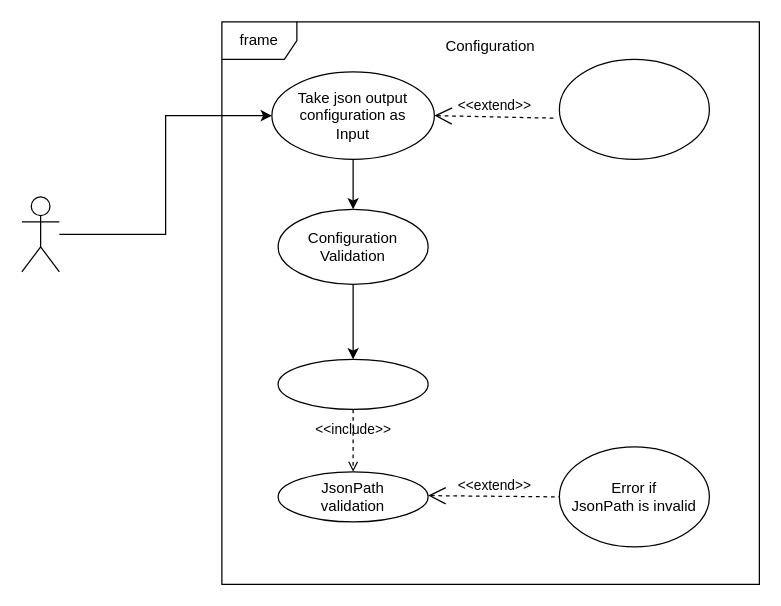
This 781x606 diagram has some shape labels left out. Each missing label, with the box of its shape:
Api: (21, 196, 59, 272)
Error if Json is empty null or malformed: (558, 58, 709, 159)
iterate over confguration: (277, 358, 428, 409)
